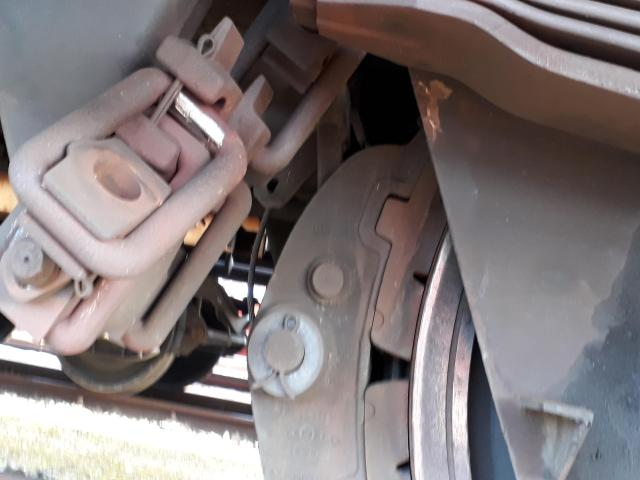blattfederww: (299, 4, 640, 110)
